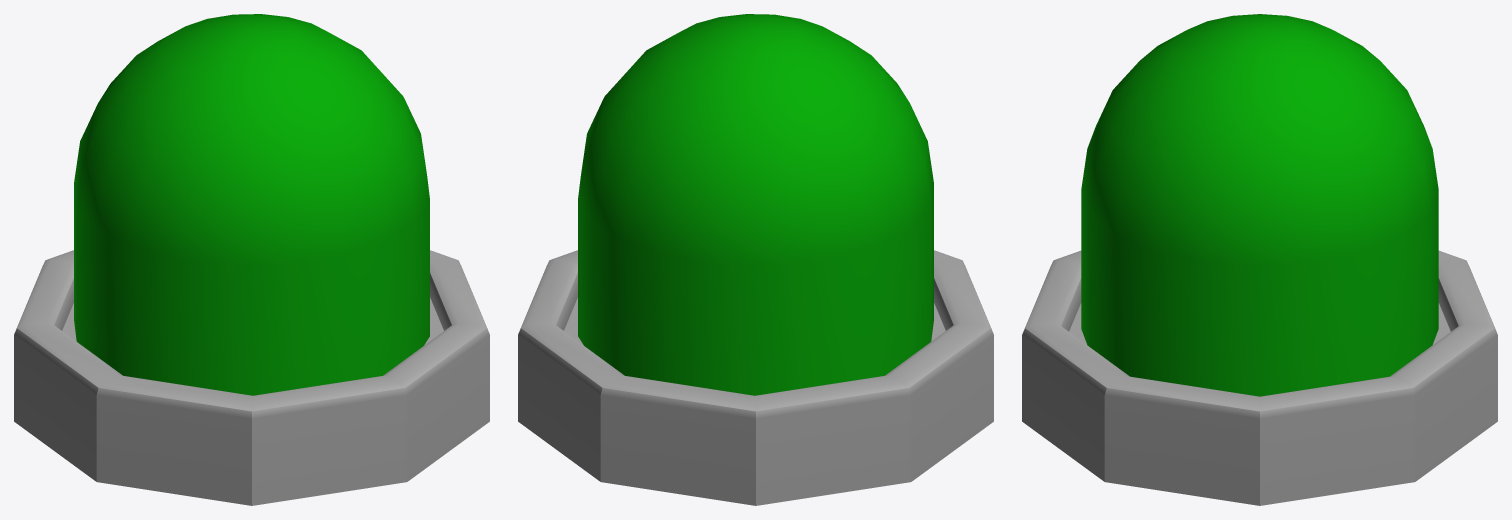
The model's file is Lamp3.fbx.
The picture shows the model from 3 angles, left to right: view 1: azimuth 30°, elevation 25°; view 2: azimuth 150°, elevation 25°; view 3: azimuth 270°, elevation 25°; orthographic projection.
Parts seen in each view (by area): view 1: LampEmission, LampModelV3; view 2: LampEmission, LampModelV3; view 3: LampEmission, LampModelV3.
Boxes of the visible parts, x1=… form: LampEmission: x1=74, y1=14, x2=429, y2=395; LampModelV3: x1=14, y1=250, x2=489, y2=505; LampEmission: x1=578, y1=14, x2=933, y2=395; LampModelV3: x1=518, y1=250, x2=993, y2=505; LampEmission: x1=1081, y1=14, x2=1438, y2=396; LampModelV3: x1=1022, y1=250, x2=1497, y2=505.
Size of the model in its own units: 0.00764 by 0.00672 by 0.00775.
